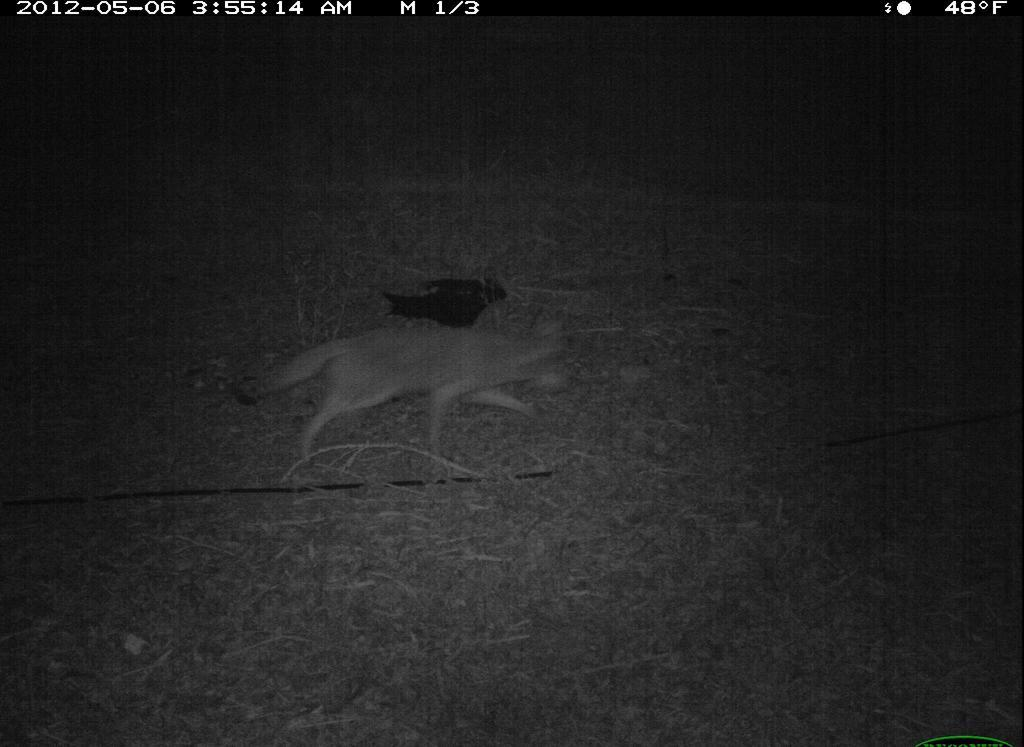coyote: (226, 312, 579, 478)
